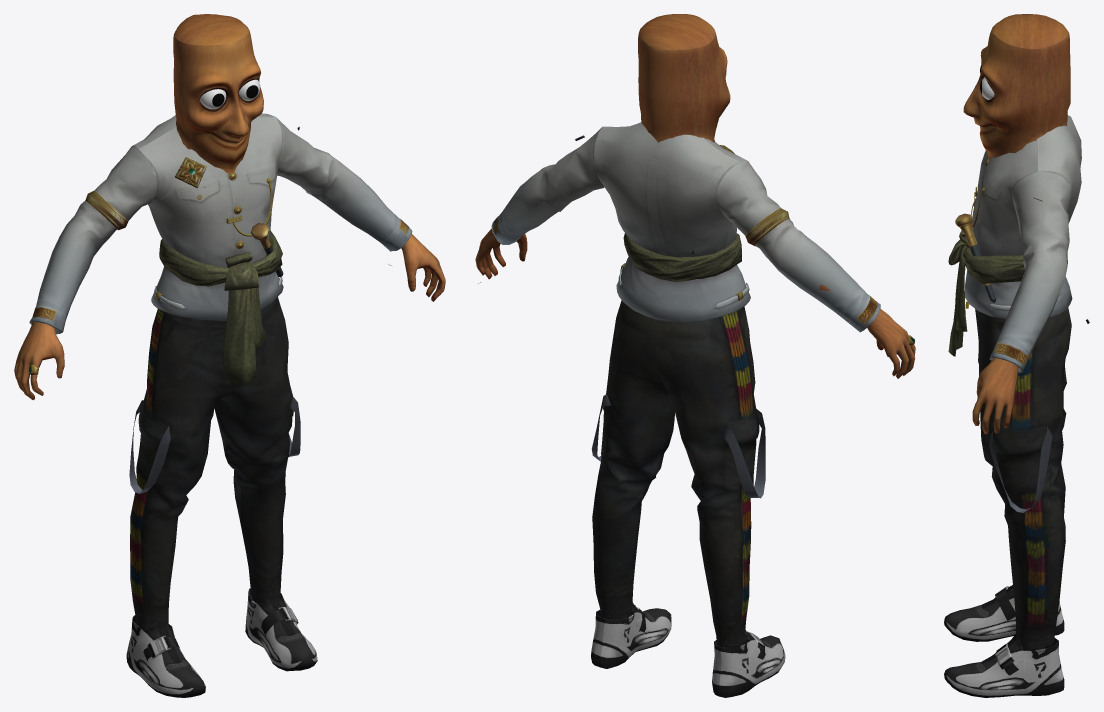
Rendered from tung miaou.glb.
3 views of the same model, side by side, from view 1: azimuth 30°, elevation 25°; view 2: azimuth 150°, elevation 25°; view 3: azimuth 270°, elevation 25° (orthographic).
Parts seen in each view (by area): view 1: tung miaou; view 2: tung miaou; view 3: tung miaou.
Boxes of the visible parts, bbox=[...] form: tung miaou: bbox=[14, 14, 445, 697]; tung miaou: bbox=[475, 14, 915, 697]; tung miaou: bbox=[944, 14, 1089, 697].
Size of the model in its own units: 0.6351 by 0.9145 by 0.1885.
10 materials, 8 textured.
